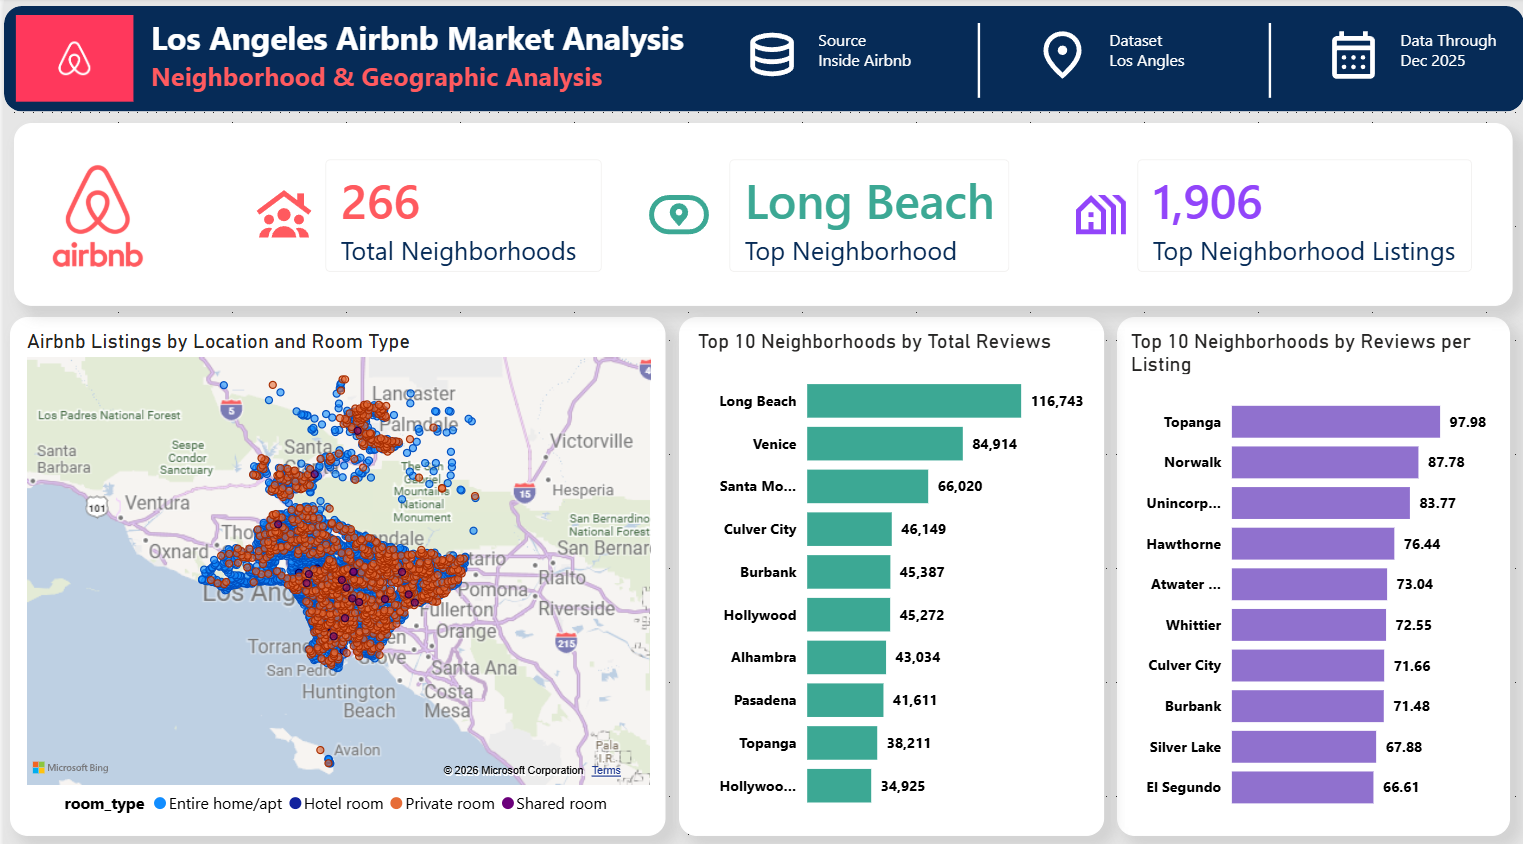

What the dashboard file says about the page in this screenshot:
{"tool":"powerbi","page":{"name":"Neighborhood & Geographic Analysis","canvas":[1280,720],"ordinal":1},"visuals":[{"type":"shape","box":[0,7.1,1280,88.9],"z":0,"group":"g1"},{"type":"shape","box":[5.3,268.4,552,437.3],"z":0},{"type":"shape","box":[936.9,268.4,330.7,437.3],"z":1000},{"type":"shape","box":[568,268.4,358.2,437.3],"z":2000},{"type":"shape","box":[8.6,105.5,1262.2,153.8],"z":3000},{"type":"cardVisual","fields":{"Data":["public vw_neighbourhood_summary.Total Neighborhoods"]},"box":[253.3,119.1,267.6,129.8],"z":4000},{"type":"cardVisual","fields":{"Data":["public vw_neighbourhood_summary.Top Neighborhood"]},"box":[593.8,119.1,270.2,129.8],"z":5000},{"type":"cardVisual","fields":{"Data":["public vw_neighbourhood_summary.Top Neighborhood Listings"]},"box":[936.9,119.1,316.4,129.8],"z":6000},{"type":"map","title":"Airbnb Listings by Location and Room Type","fields":{"Y":["public vw_listing_map.latitude"],"X":["public vw_listing_map.longitude"],"Series":["public vw_listing_map.room_type"]},"box":[14.2,279.1,535.1,418.7],"z":7000},{"type":"clusteredBarChart","title":"Top 10 Neighborhoods by Total Reviews","fields":{"Category":["public vw_listing_map.neighbourhood"],"Y":["Sum(public vw_listing_map.number_of_reviews)"]},"box":[579.1,279.1,335.1,418.7],"z":8000},{"type":"clusteredBarChart","title":"Top 10 Neighborhoods by Reviews  per Listing","fields":{"Y":["Sum(public vw_neighbourhood_summary.reviews_per_listing)"],"Category":["public vw_neighbourhood_summary.neighbourhood"]},"box":[944,279.1,309.3,418.7],"z":9000},{"type":"image","box":[21.3,124.4,115.6,118.2],"z":10000},{"type":"group","id":"g1","title":"Group 1","box":[0,7.1,1280,88.9],"z":11000},{"type":"image","box":[203.6,154.7,64,55.1],"z":12000},{"type":"image","box":[536.2,154.7,64,55.1],"z":13000},{"type":"image","box":[0,14.8,118.8,73.2],"z":14000,"group":"g1"},{"type":"image","box":[891.6,154.7,64,55.1],"z":14000},{"type":"textbox","box":[118.8,10.9,468.1,85.1],"z":15000,"group":"g1"},{"type":"textbox","box":[622.2,21.3,152.9,63.1],"z":16000,"group":"g1"},{"type":"textbox","box":[867.1,21.3,152.9,63.1],"z":17000,"group":"g1"},{"type":"textbox","box":[1112,21.3,152.9,63.1],"z":18000,"group":"g1"},{"type":"image","box":[622.2,21.3,48.9,53.3],"z":19000,"group":"g1"},{"type":"image","box":[867.6,21.3,48,53.3],"z":20000,"group":"g1"},{"type":"image","box":[1112,21.3,48,53.3],"z":21000,"group":"g1"},{"type":"shape","box":[814.4,21.3,13.3,63.1],"z":22000,"group":"g1"},{"type":"shape","box":[1059.6,21.3,13.3,63.1],"z":23000,"group":"g1"}]}

Visuals, with their boxes in screenshot pixels (x1, y1, x2, y2), scaled from the page's 1280x720 canvas onto the 1523x844 screenshot:
shape: <region>0, 8, 1522, 113</region>
shape: <region>6, 315, 663, 827</region>
shape: <region>1115, 315, 1508, 827</region>
shape: <region>676, 315, 1102, 827</region>
shape: <region>10, 124, 1512, 304</region>
cardVisual - public vw_neighbourhood_summary.Total Neighborhoods: <region>301, 140, 620, 292</region>
cardVisual - public vw_neighbourhood_summary.Top Neighborhood: <region>707, 140, 1028, 292</region>
cardVisual - public vw_neighbourhood_summary.Top Neighborhood Listings: <region>1115, 140, 1491, 292</region>
"Airbnb Listings by Location and Room Type" map: <region>17, 327, 654, 818</region>
"Top 10 Neighborhoods by Total Reviews" clusteredBarChart: <region>689, 327, 1088, 818</region>
"Top 10 Neighborhoods by Reviews  per Listing" clusteredBarChart: <region>1123, 327, 1491, 818</region>
image: <region>25, 146, 163, 284</region>
"Group 1" group: <region>0, 8, 1522, 113</region>
image: <region>242, 181, 318, 246</region>
image: <region>638, 181, 714, 246</region>
image: <region>0, 17, 141, 103</region>
image: <region>1061, 181, 1137, 246</region>
textbox: <region>141, 13, 698, 113</region>
textbox: <region>740, 25, 922, 99</region>
textbox: <region>1032, 25, 1214, 99</region>
textbox: <region>1323, 25, 1505, 99</region>
image: <region>740, 25, 799, 87</region>
image: <region>1032, 25, 1089, 87</region>
image: <region>1323, 25, 1380, 87</region>
shape: <region>969, 25, 985, 99</region>
shape: <region>1261, 25, 1277, 99</region>
